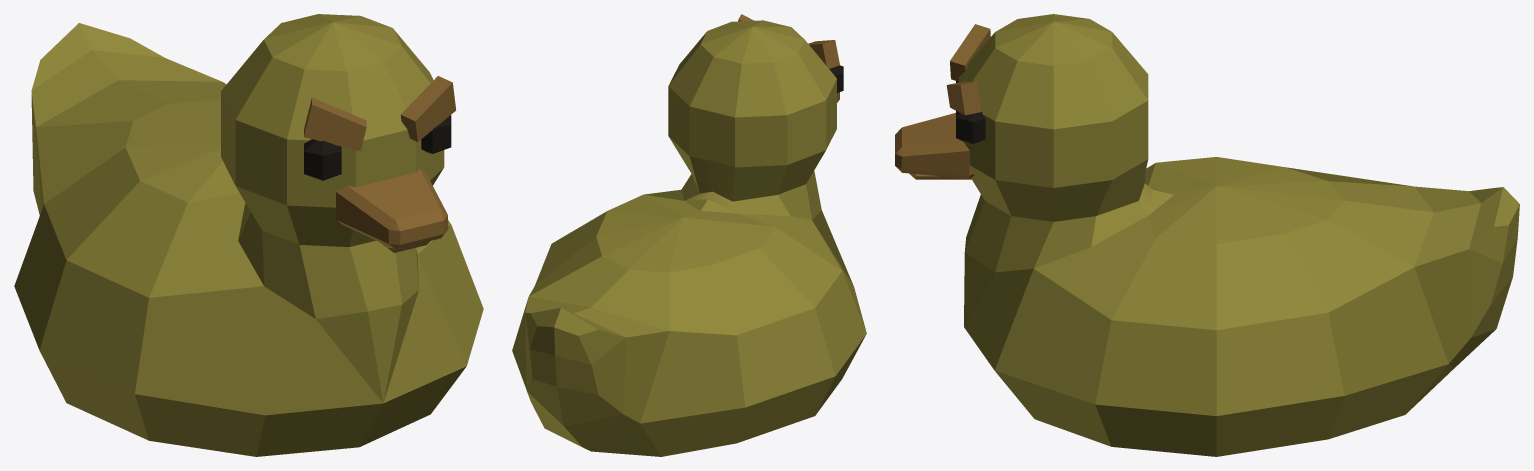
The model's file is Rubber_Duck.fbx.
3 views of the same model, side by side, from view 1: azimuth 30°, elevation 25°; view 2: azimuth 150°, elevation 25°; view 3: azimuth 270°, elevation 25° (orthographic). The views are drawn at different scales.
Parts seen in each view (by area): view 1: DuckBody1, LeftBrow, RightBrow; view 2: DuckBody1, LeftBrow; view 3: DuckBody1, LeftBrow, RightBrow.
Part boxes in pixels (box(x1,y1,x2,y2)): DuckBody1: box(14, 14, 483, 456); LeftBrow: box(304, 97, 366, 151); RightBrow: box(400, 76, 456, 141); DuckBody1: box(512, 20, 866, 456); LeftBrow: box(808, 40, 839, 68); DuckBody1: box(895, 14, 1519, 456); LeftBrow: box(950, 24, 990, 81); RightBrow: box(946, 81, 981, 115).
Bounding box in the file's own units: 55.61 × 57.25 × 84.25.
